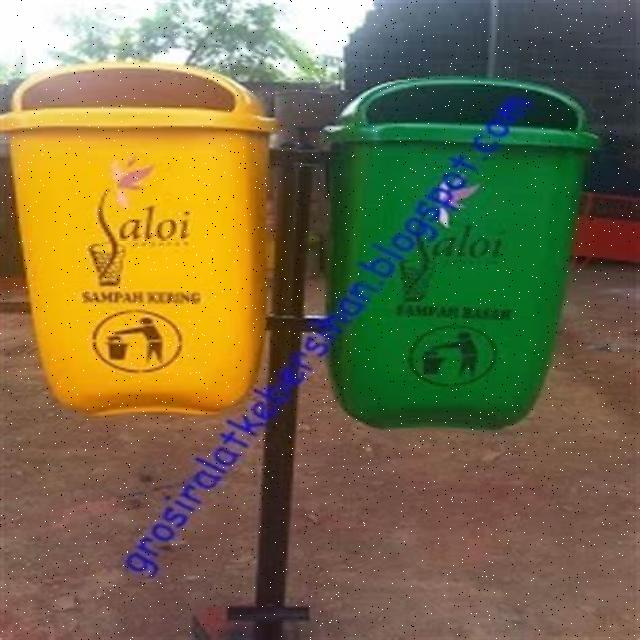garbage container: (303, 59, 640, 433), (0, 60, 298, 429)
